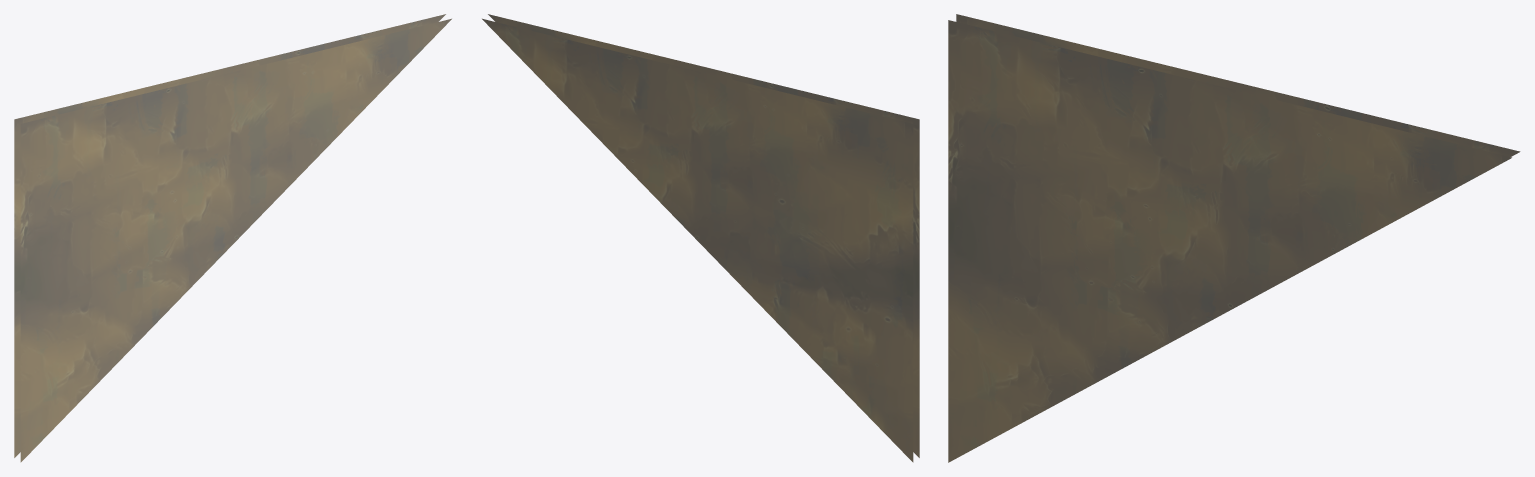
File: SM_MOD_wall_sloped_inverted_stone_town.fbx
The picture shows the model from 3 angles, left to right: view 1: azimuth 30°, elevation 25°; view 2: azimuth 150°, elevation 25°; view 3: azimuth 330°, elevation 25°; orthographic projection. The views are drawn at different scales.
Visible parts, largest first — view 1: SM_MOD_wall_sloped_inverted_stone_town; view 2: SM_MOD_wall_sloped_inverted_stone_town; view 3: SM_MOD_wall_sloped_inverted_stone_town.
Part boxes in pixels (x1,y1,x2,y2): SM_MOD_wall_sloped_inverted_stone_town: [14, 14, 451, 462]; SM_MOD_wall_sloped_inverted_stone_town: [482, 14, 919, 462]; SM_MOD_wall_sloped_inverted_stone_town: [948, 14, 1520, 462].
Size of the model in its own units: 368 by 276 by 9.2.
